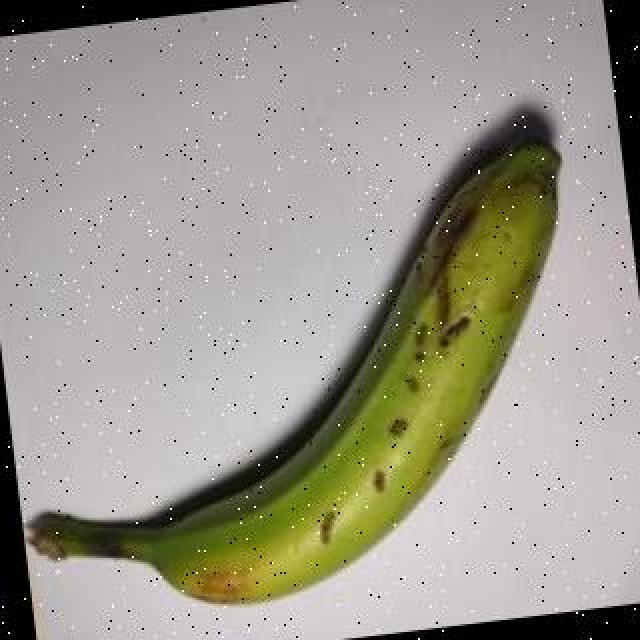Unripe: (31, 147, 565, 604)
